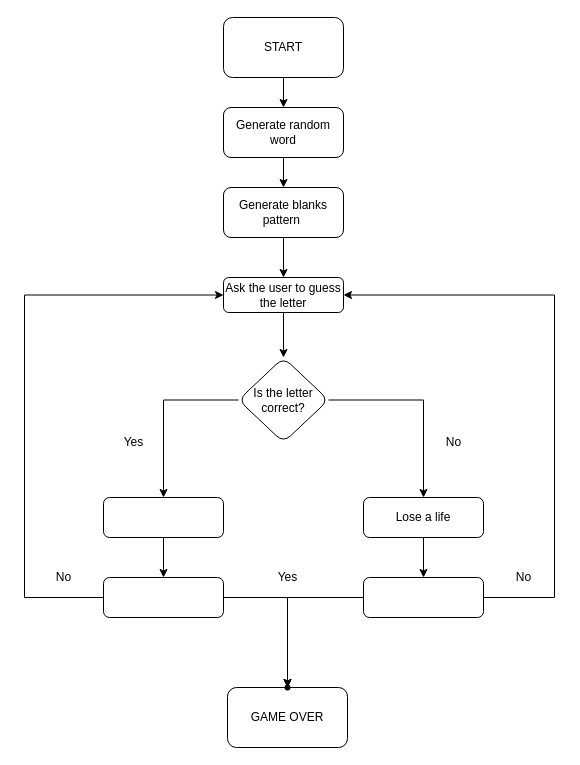
The diagram is 580 pixels wide and 765 high, and some of its shapes have lost their labels. The shapes that lost their labels are listed below. From the top down, each one's centre as x and y in pixels, then its label:
At (x=163, y=517): "Replace the blank with the letter".
At (x=163, y=597): "Are all the blanks filled?".
At (x=423, y=597): "Have they run out of lives?".
